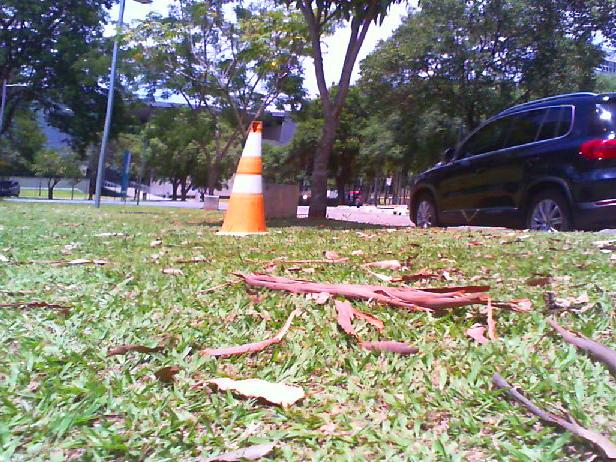0 cone: (211, 120, 273, 236)
